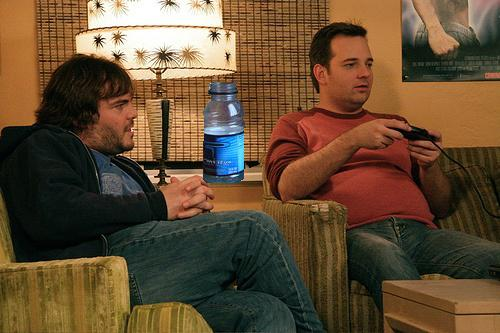tampered: (204, 83, 245, 183)
